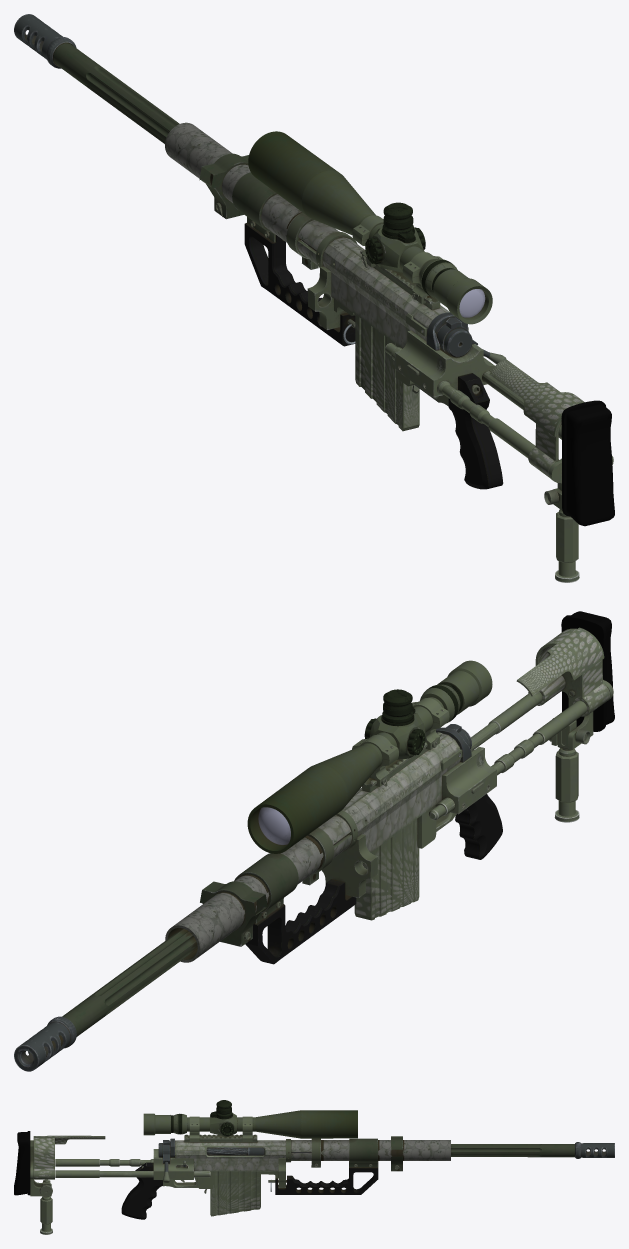
Rendered from arma.glb.
The picture shows the model from 3 angles, top to bottom: view 1: azimuth 30°, elevation 25°; view 2: azimuth 150°, elevation 25°; view 3: azimuth 270°, elevation 25°; orthographic projection. The views are drawn at different scales.
Parts seen in each view (by area): view 1: cuerpo, carg; view 2: cuerpo, carg; view 3: cuerpo, carg, cerrojo.
Boxes of the visible parts, x1,y1,x2,y2 form: cuerpo: (14,14,614,582); carg: (355,315,419,431); cuerpo: (14,611,614,1071); carg: (354,818,419,920); cuerpo: (14,1100,614,1234); carg: (210,1171,260,1216); cerrojo: (102,1143,209,1182).
Bounding box in the file's own units: 0.1259 × 0.3459 × 1.45.
3 materials, 3 textured.
